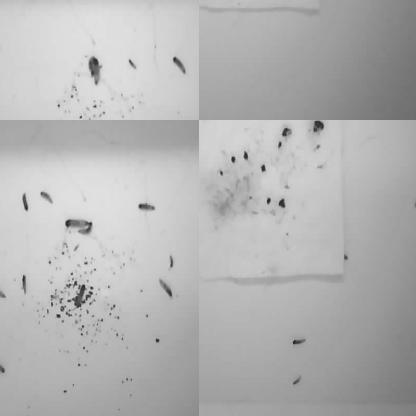PtecticusTenebrifer: (158, 275, 174, 299), (171, 56, 187, 76), (66, 218, 90, 229), (138, 202, 156, 214), (291, 336, 308, 346), (22, 191, 30, 212), (94, 59, 100, 85), (41, 190, 53, 203), (292, 374, 302, 387), (279, 120, 293, 129), (221, 0, 232, 11), (199, 66, 208, 79), (22, 273, 27, 296), (0, 284, 7, 300), (90, 55, 95, 77), (202, 0, 223, 5), (267, 120, 282, 127), (0, 307, 8, 320), (302, 0, 311, 11), (199, 356, 205, 372), (28, 0, 41, 7), (361, 120, 376, 126), (0, 359, 6, 373), (169, 254, 174, 269), (199, 0, 207, 8), (412, 194, 416, 207), (0, 0, 4, 12), (0, 120, 5, 126)
